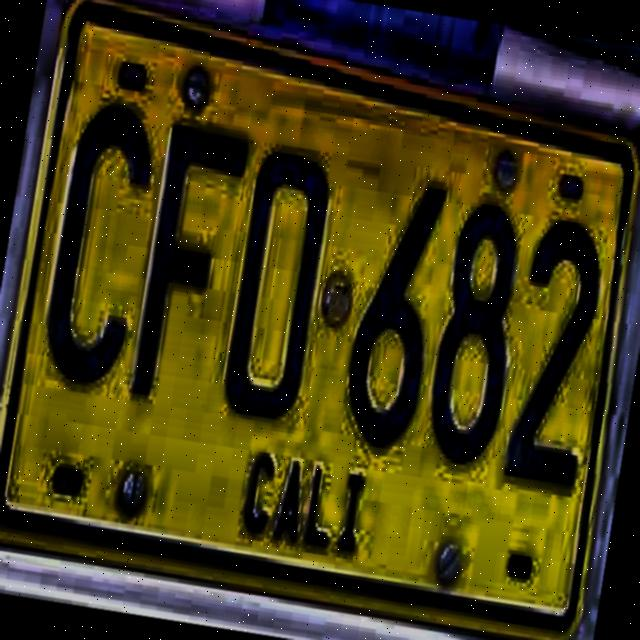plate: (0, 4, 638, 634)
